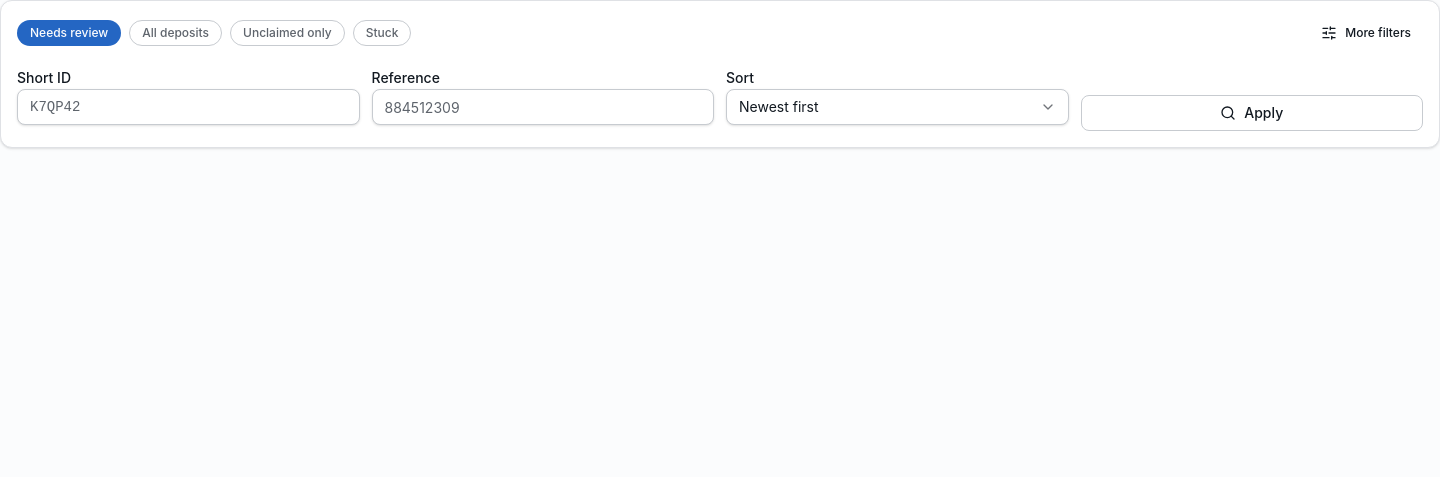
Test: DepositFilters › refuses an amount that is not a plain decimal and leaves the URL alone
Click the button "More filters" at (1366, 33), box [1309, 17, 1423, 49]
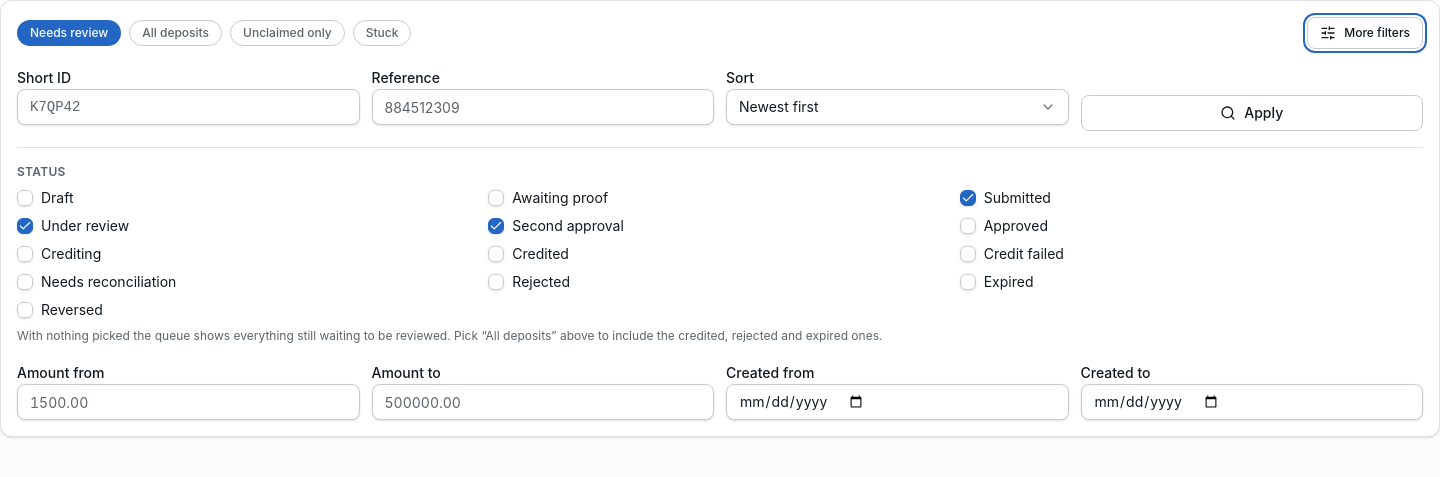
Type "1,500.00" into the field labelled "Amount from" at (188, 402), box [17, 384, 360, 420]
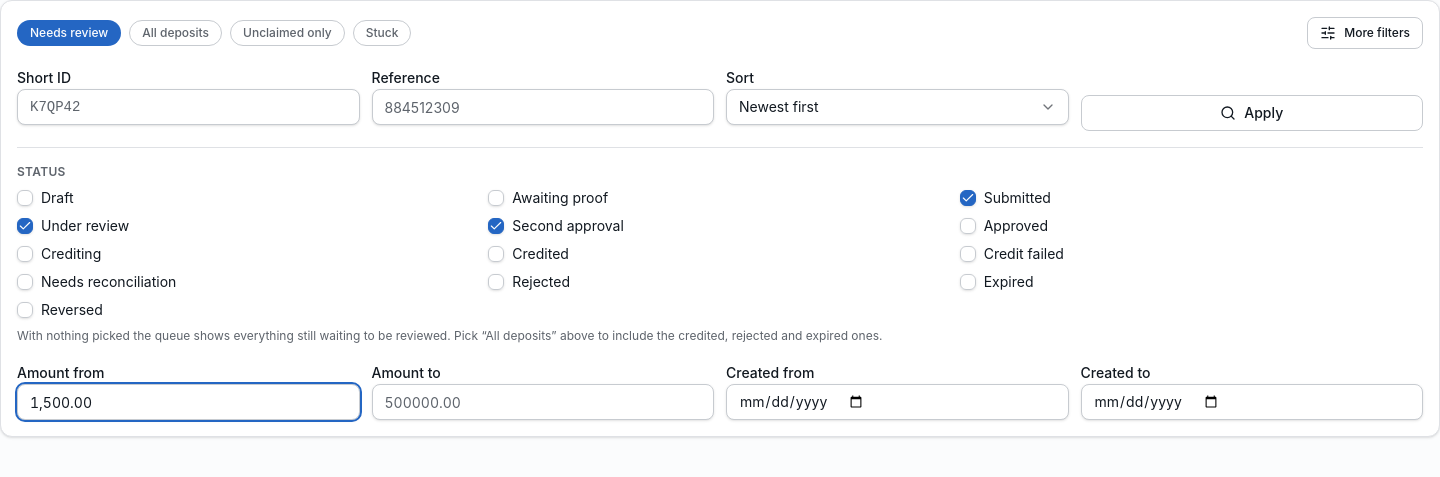
Click the button "Apply" at (1252, 113), box [1080, 95, 1423, 131]
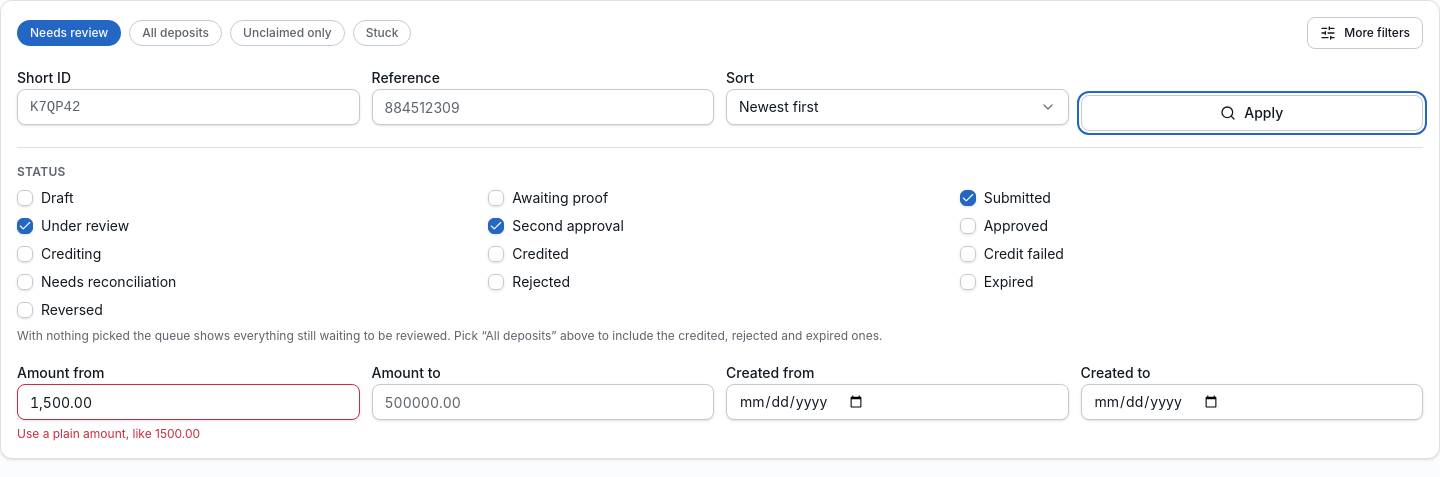
Check: the message reads "Use a plain amount, like 1500.00", box [17, 426, 200, 441]
